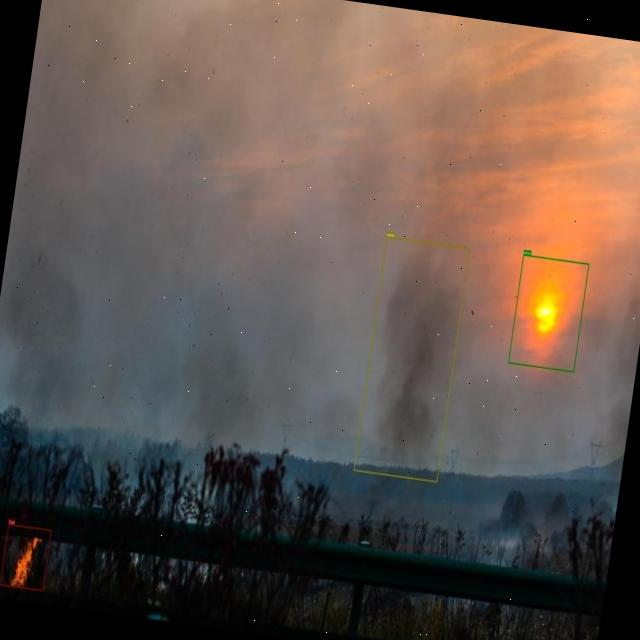fire: (0, 524, 52, 592)
smoke: (354, 236, 469, 482)
